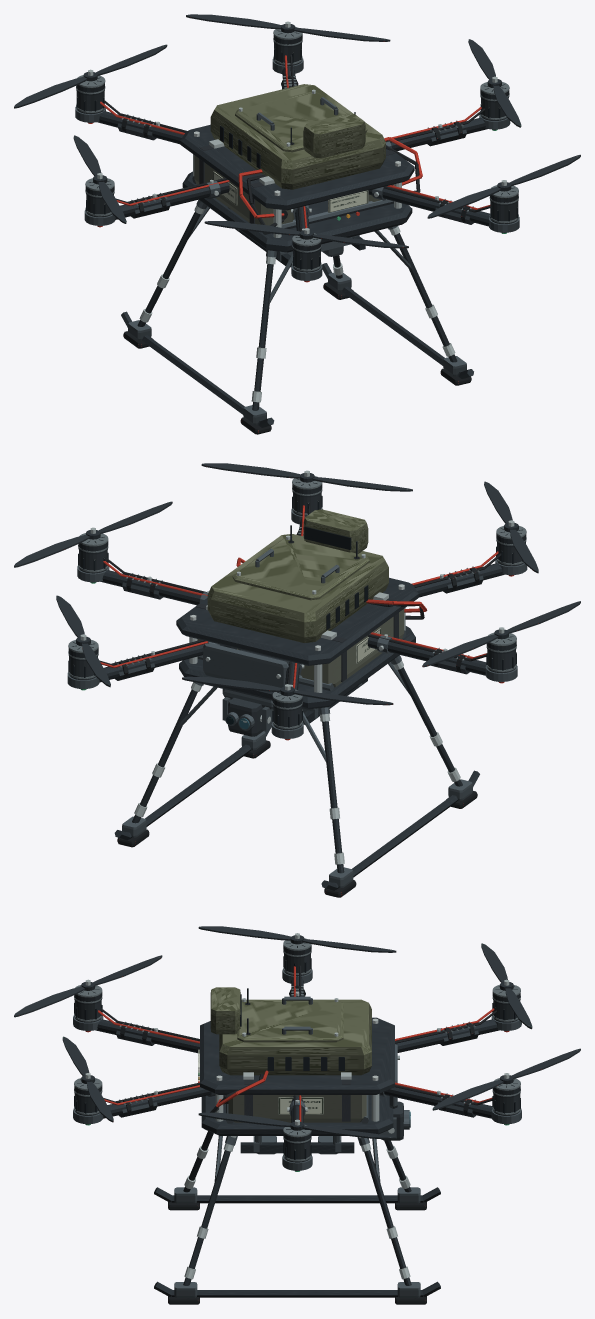
The model's file is heavy_bomber_drone.obj.
The picture shows the model from 3 angles, top to bottom: view 1: azimuth 30°, elevation 25°; view 2: azimuth 150°, elevation 25°; view 3: azimuth 270°, elevation 25°; orthographic projection. The views are drawn at different scales.
Parts seen in each view (by area): view 1: flat_camouflage_main_housing, upper_octagonal_chassis, lower_octagonal_chassis, top_service_hatch, rear_gnss_module, side_battery_L, landing_skid_-1_1, landing_skid_1_1, carbon_arm_2, carbon_arm_4, splayed_landing_leg_(-1, 1), carbon_arm_1 (+11 smaller); view 2: flat_camouflage_main_housing, upper_octagonal_chassis, top_service_hatch, front_avionics_face, lower_octagonal_chassis, rear_gnss_module, side_battery_L, landing_skid_1_1, landing_skid_-1_1, carbon_arm_4, splayed_landing_leg_(-1, -1), carbon_arm_0 (+12 smaller); view 3: flat_camouflage_main_housing, upper_octagonal_chassis, top_service_hatch, lower_octagonal_chassis, side_battery_R, landing_skid_-1_1, landing_skid_1_1, rear_gnss_module, carbon_arm_3, carbon_arm_5, underframe_long_rail_2.25, carbon_arm_0 (+12 smaller).
Part boxes in pixels (<box>): flat_camouflage_main_housing: <box>210,84,385,189</box>; upper_octagonal_chassis: <box>180,124,414,210</box>; lower_octagonal_chassis: <box>182,171,412,252</box>; top_service_hatch: <box>235,92,367,152</box>; rear_gnss_module: <box>303,113,365,158</box>; side_battery_L: <box>194,155,294,225</box>; landing_skid_-1_1: <box>142,335,262,426</box>; landing_skid_1_1: <box>342,286,462,378</box>; carbon_arm_2: <box>368,186,489,226</box>; carbon_arm_4: <box>115,180,229,219</box>; splayed_landing_leg_(-1, 1): <box>252,263,273,410</box>; carbon_arm_1: <box>390,118,487,151</box>; flat_camouflage_main_housing: <box>207,534,388,642</box>; upper_octagonal_chassis: <box>176,577,418,665</box>; top_service_hatch: <box>232,538,369,600</box>; front_avionics_face: <box>203,643,288,687</box>; lower_octagonal_chassis: <box>179,626,415,709</box>; rear_gnss_module: <box>303,509,368,553</box>; side_battery_L: <box>300,609,404,687</box>; landing_skid_1_1: <box>126,744,250,839</box>; landing_skid_-1_1: <box>333,795,457,889</box>; carbon_arm_4: <box>367,634,486,675</box>; splayed_landing_leg_(-1, -1): <box>322,721,344,873</box>; carbon_arm_0: <box>99,641,229,682</box>; flat_camouflage_main_housing: <box>219,999,371,1075</box>; upper_octagonal_chassis: <box>200,1017,394,1094</box>; top_service_hatch: <box>237,1000,343,1042</box>; lower_octagonal_chassis: <box>201,1095,393,1135</box>; side_battery_R: <box>228,1095,366,1122</box>; landing_skid_-1_1: <box>171,1195,423,1203</box>; landing_skid_1_1: <box>171,1290,423,1297</box>; rear_gnss_module: <box>210,987,240,1034</box>; carbon_arm_3: <box>95,1019,199,1053</box>; carbon_arm_5: <box>395,1019,499,1052</box>; underframe_long_rail_2.25: <box>240,1142,354,1153</box>; carbon_arm_0: <box>384,1084,492,1118</box>.
Bounding box in the file's own units: 1.77 × 0.9906 × 2.
